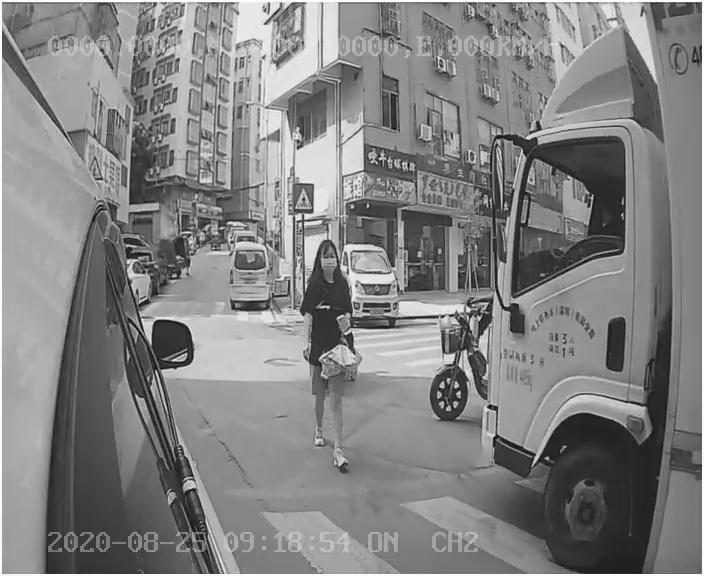person: (289, 242, 368, 477)
